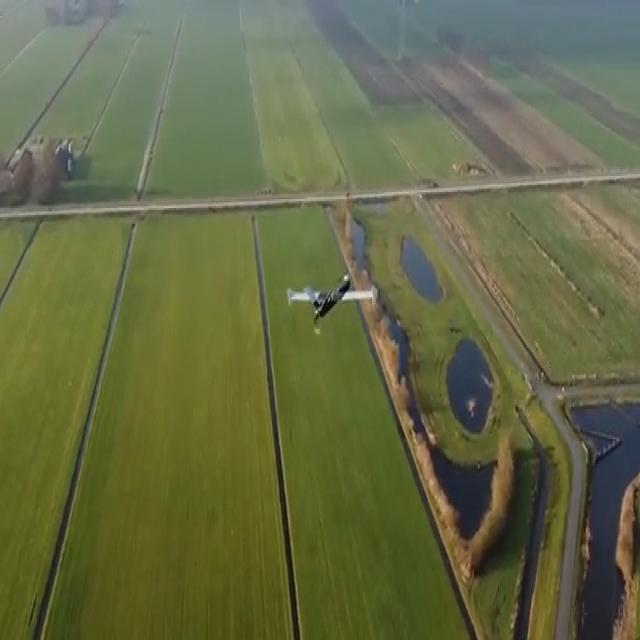drones: (282, 267, 380, 335)
